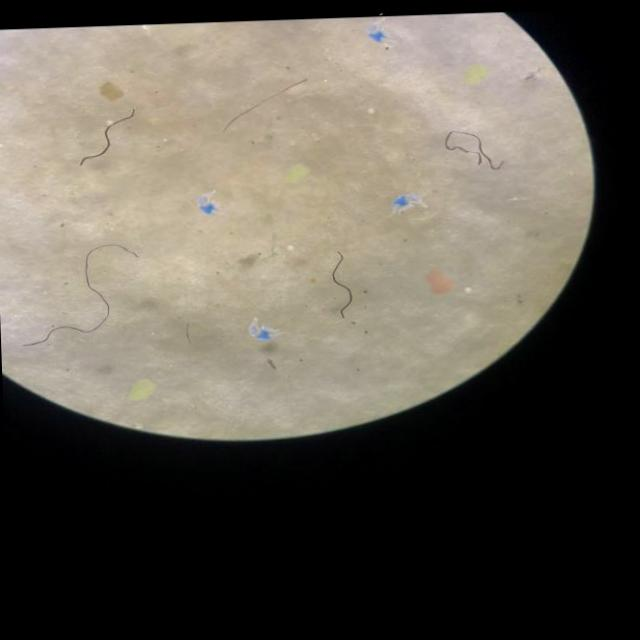fiber: (26, 242, 139, 344), (226, 79, 308, 129), (80, 108, 135, 164), (447, 132, 503, 170), (333, 251, 352, 318)
film: (250, 322, 274, 340), (393, 194, 419, 210), (201, 197, 217, 214), (369, 27, 384, 42)
fragment: (428, 271, 451, 294), (284, 165, 308, 182), (132, 380, 153, 398), (466, 66, 487, 83), (101, 82, 122, 98)
pellet: (368, 107, 375, 113), (466, 288, 471, 292)
